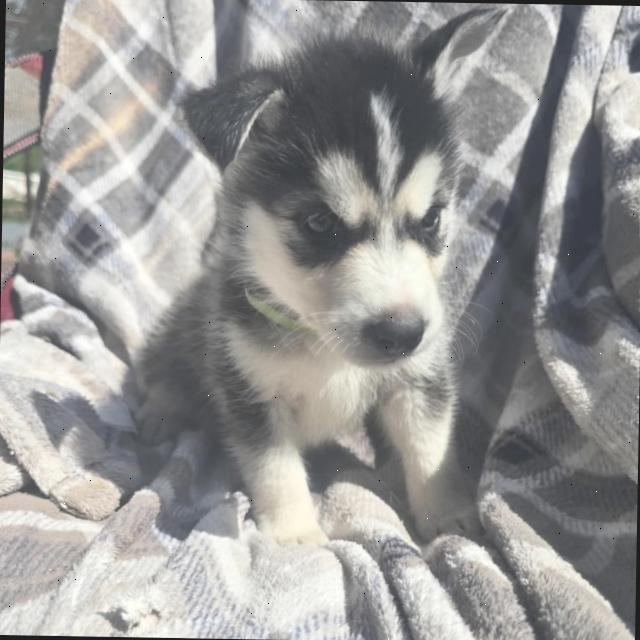siberian_husky_dog: (160, 2, 518, 380)
